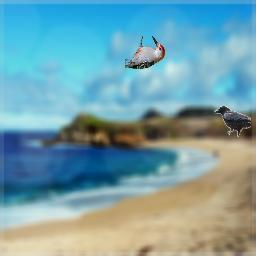Crow: (214, 106, 251, 137)
Woodpecker: (125, 36, 165, 69)
